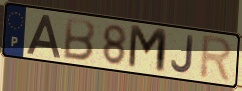8: (100, 24, 129, 67)
A: (25, 13, 62, 60)
B: (61, 16, 97, 63)
J: (169, 34, 195, 75)
M: (126, 22, 170, 76)
R: (197, 33, 235, 85)
